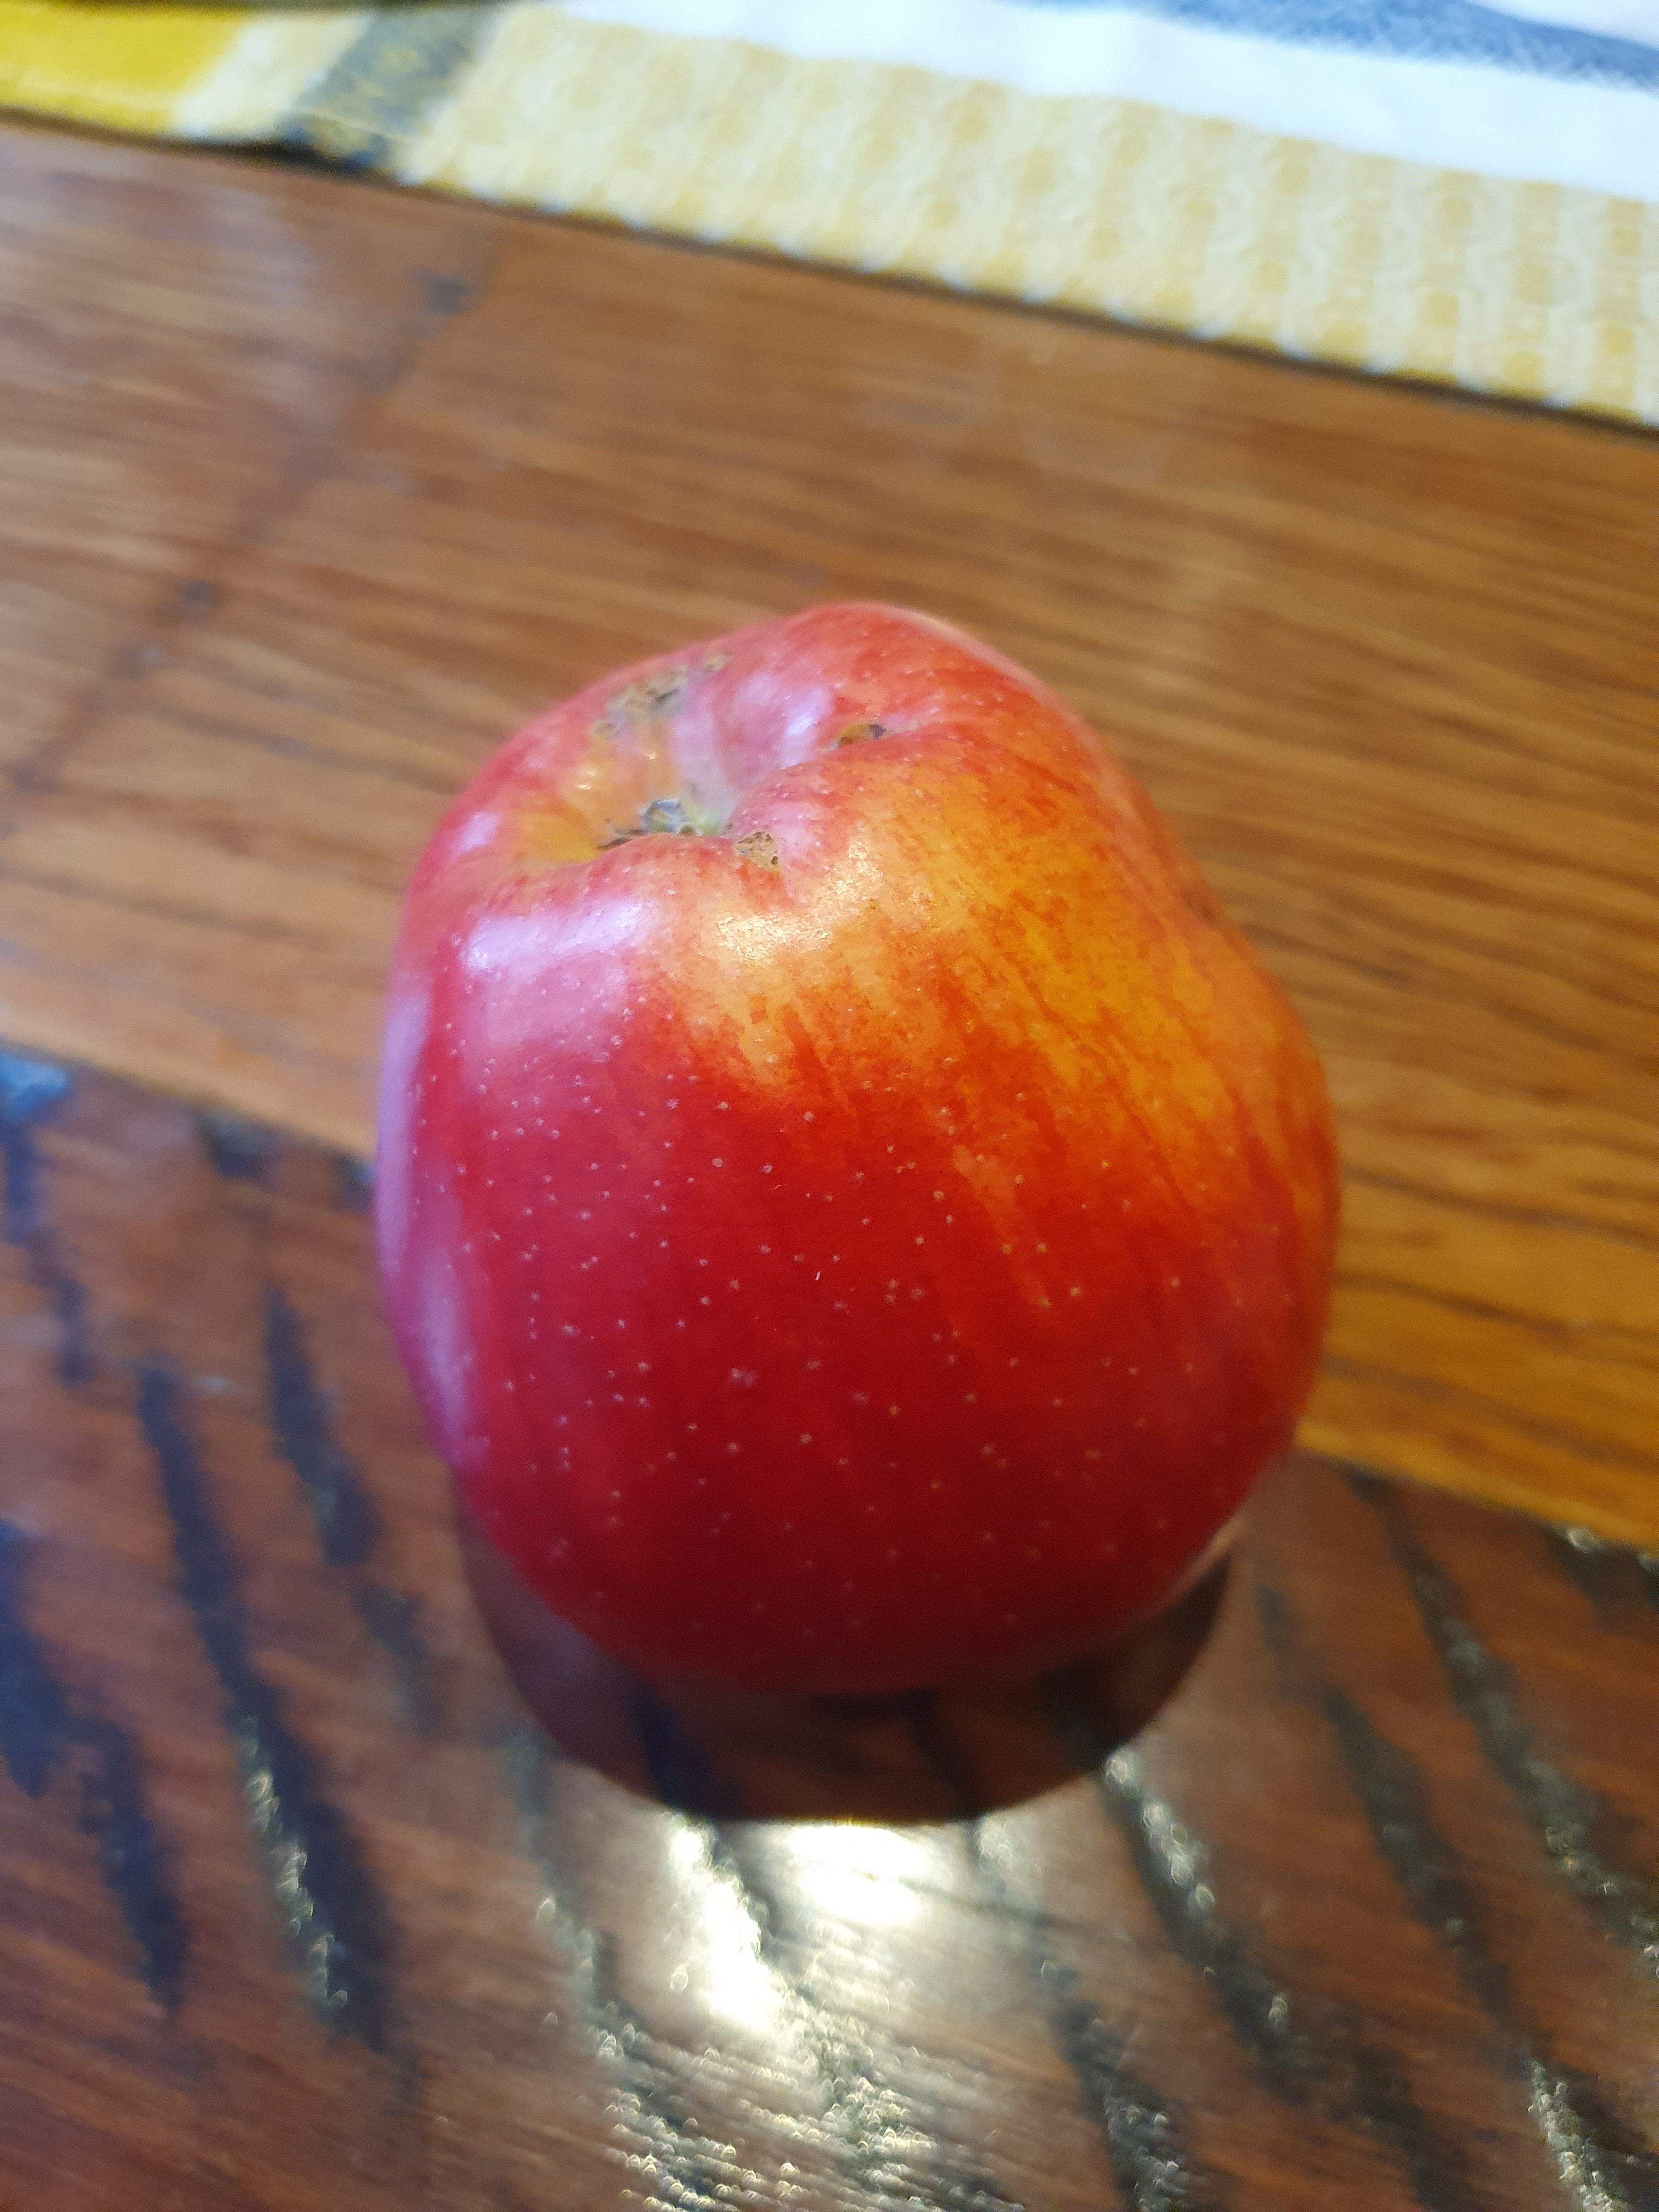red apple: (281, 583, 1370, 1709)
